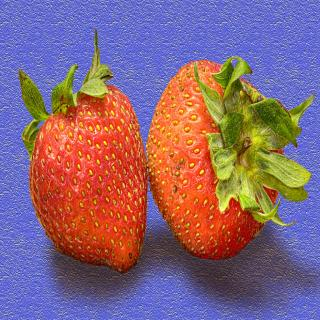Strawberry: (145, 62, 311, 260), (31, 27, 148, 270)
